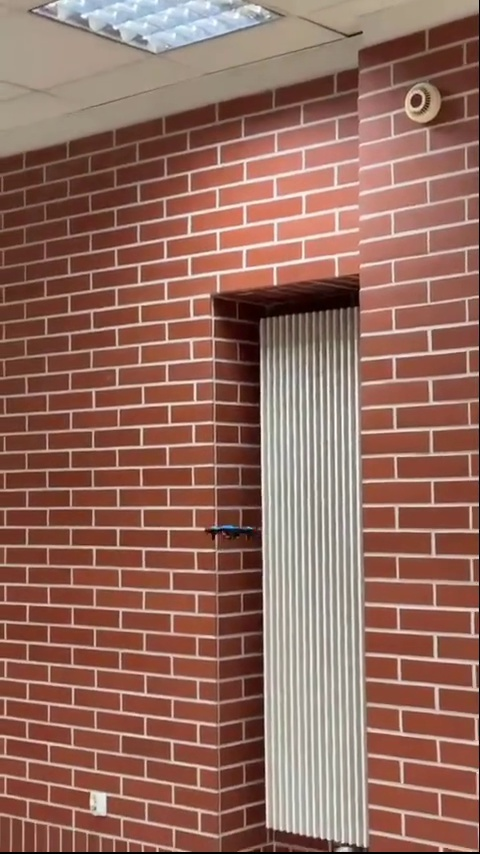drone: (203, 521, 260, 547)
